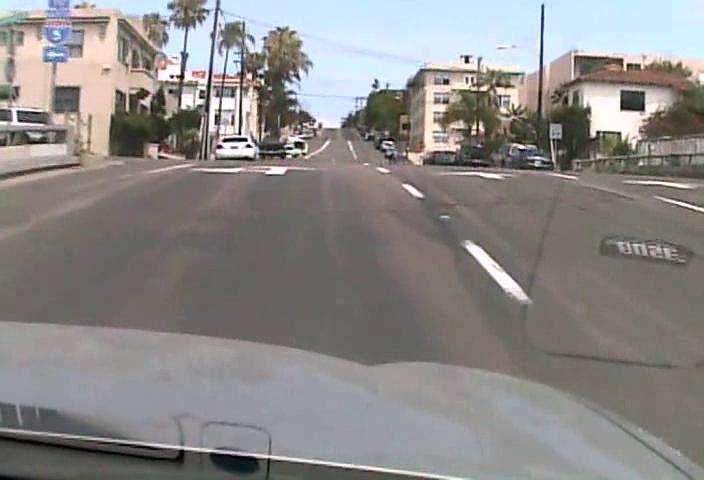speedLimitUrdbl: (548, 122, 563, 139)
